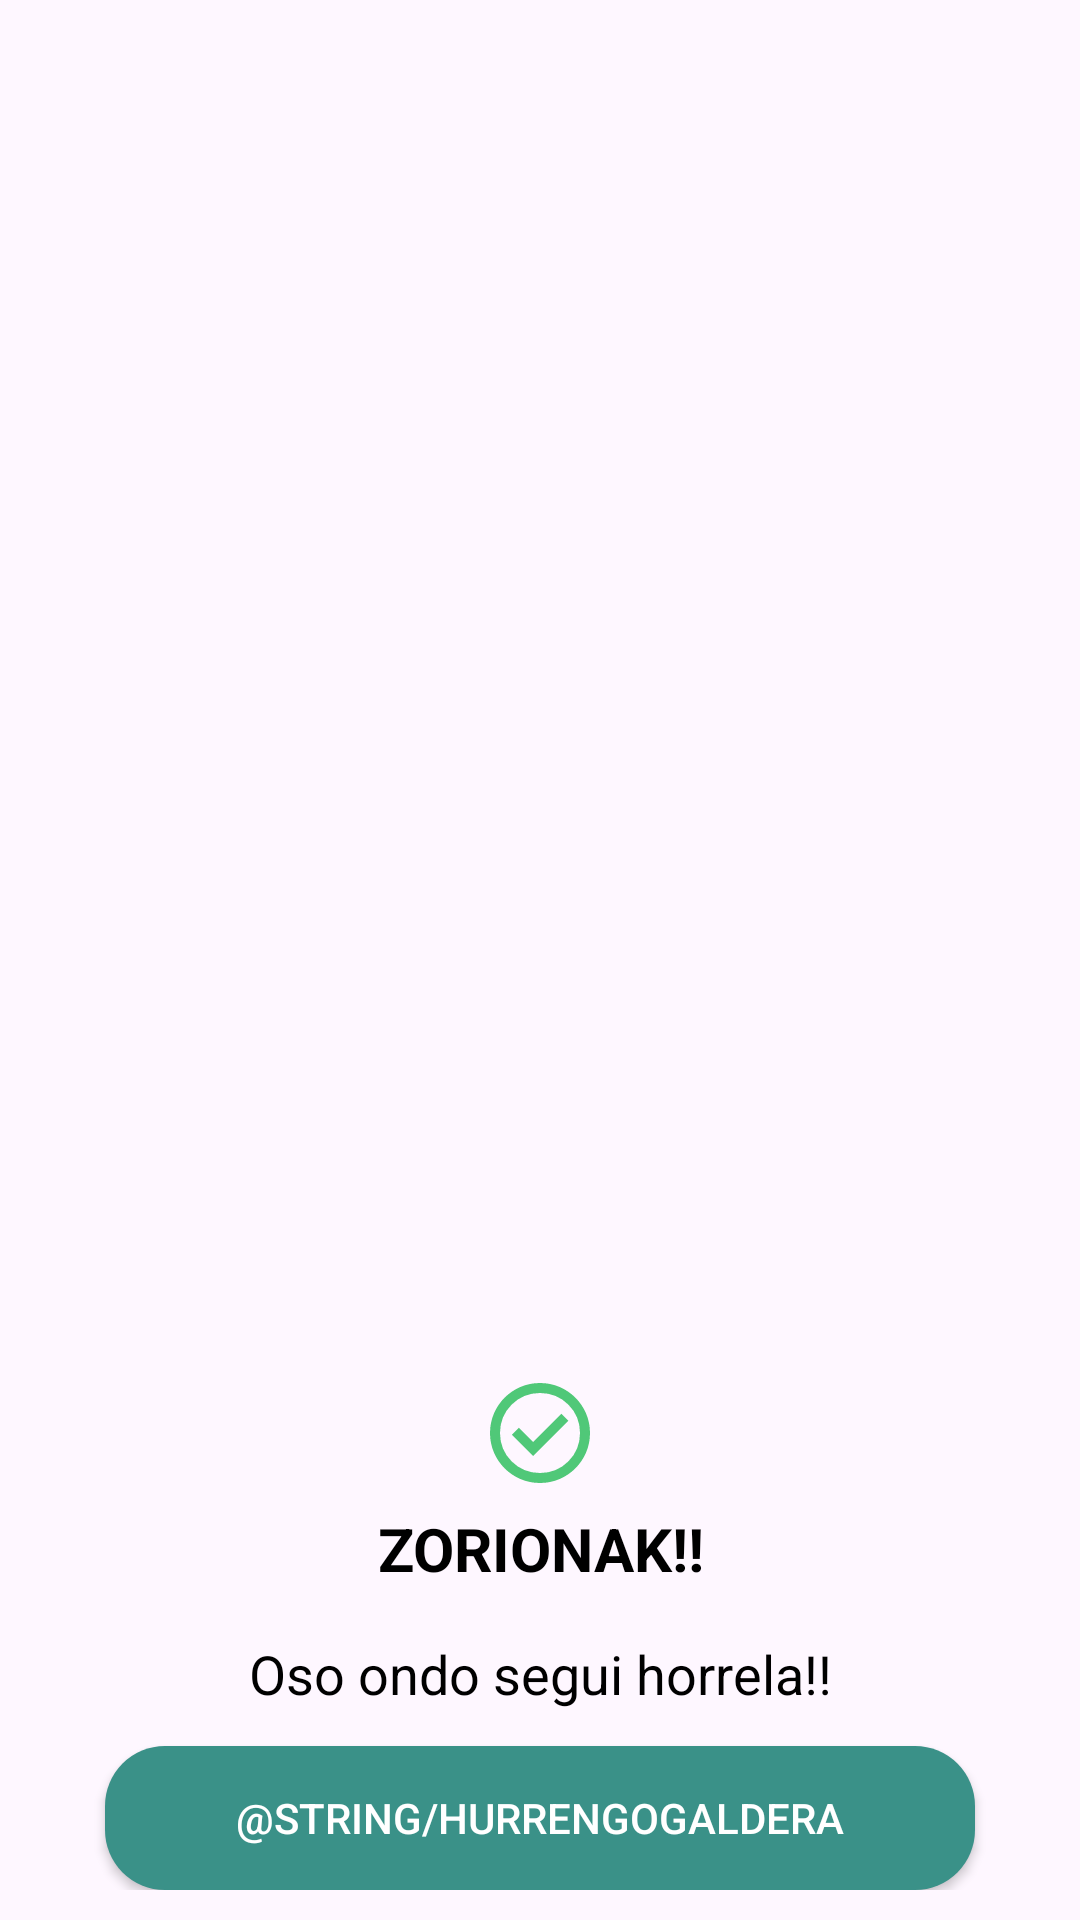

Locate icon controls on the screen. Image size 1080px×1920px, boxes as Rect(x1, y1, x2, y2).
check circle: Rect(490, 1383, 590, 1483)
